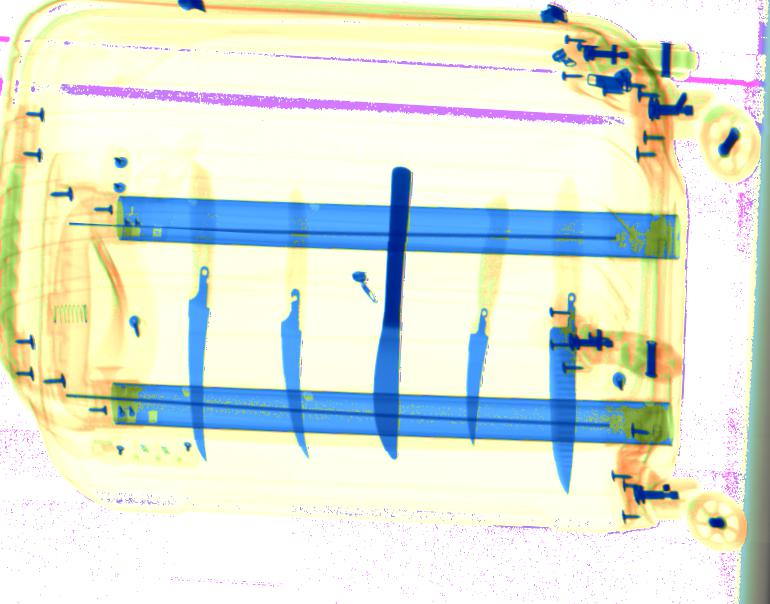Knife: (371, 164, 414, 459), (548, 260, 579, 494), (468, 256, 506, 446), (280, 248, 311, 458), (188, 244, 213, 460)
